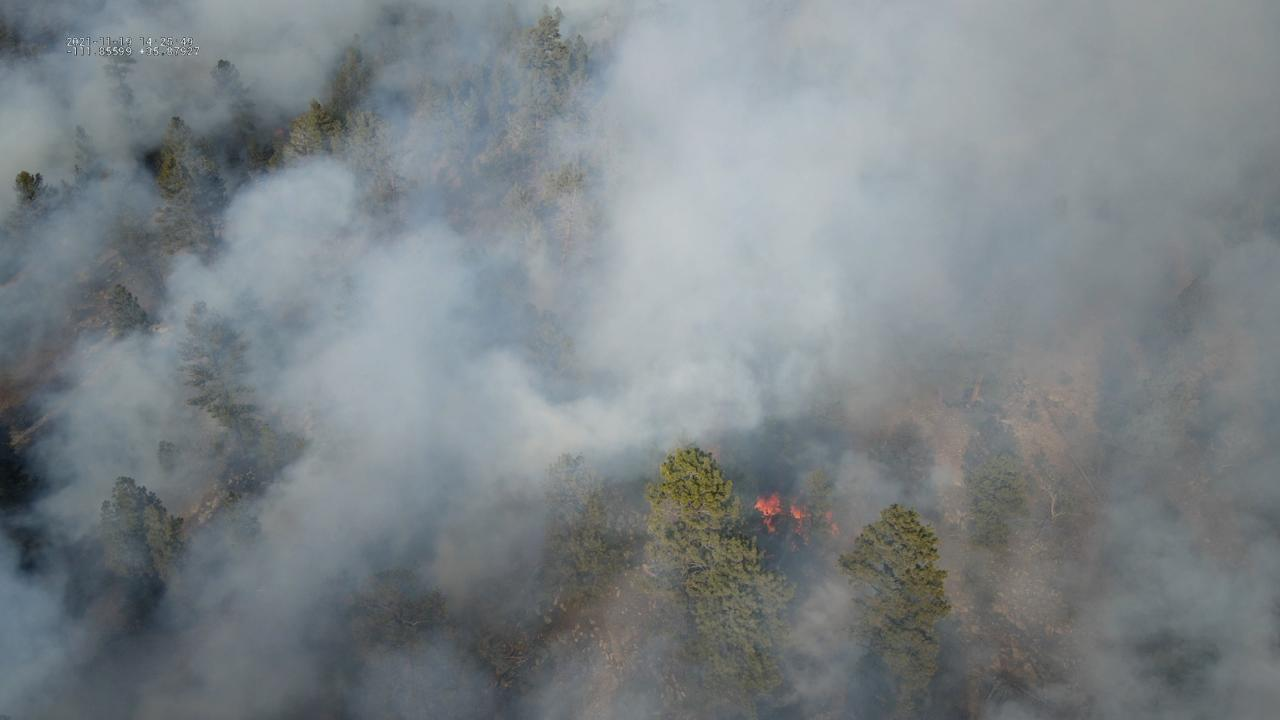fire: (751, 490, 784, 536), (789, 497, 810, 553), (825, 511, 841, 537), (275, 127, 285, 139)
smoke: (0, 0, 1280, 720)
